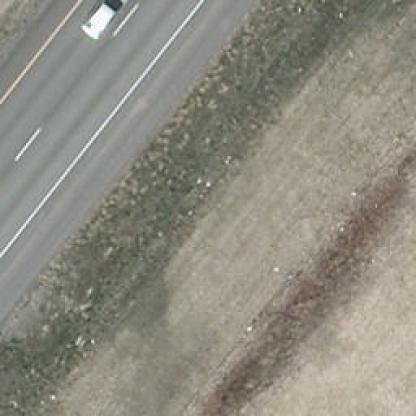car: (78, 0, 132, 41)
